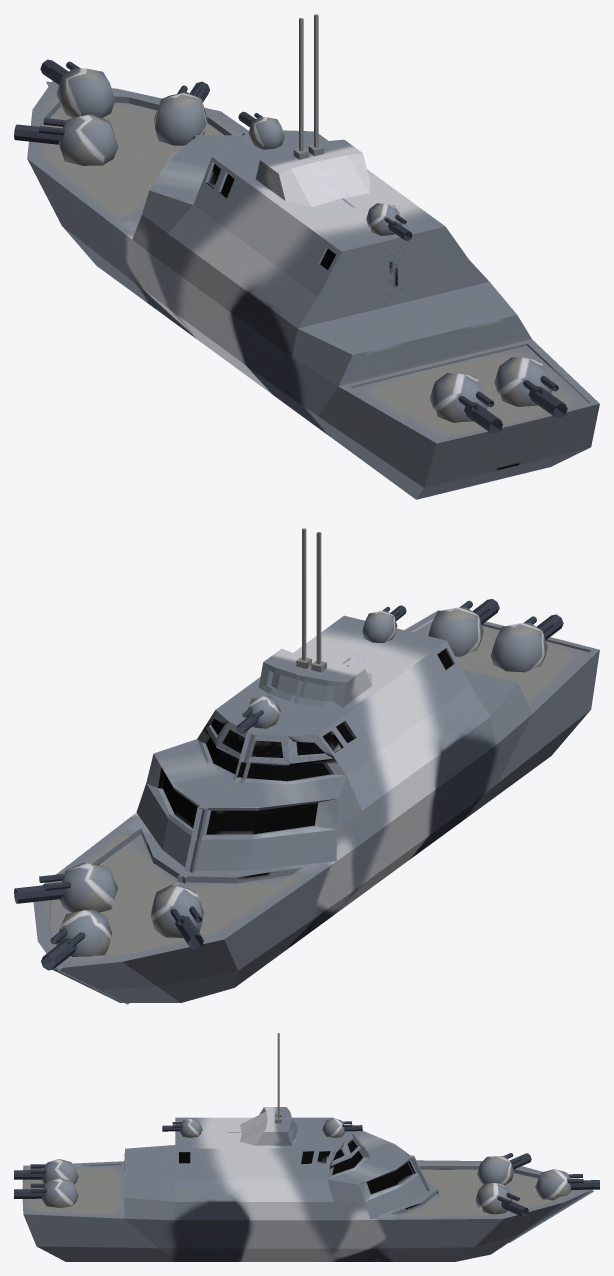
File: Barco_1.fbx
3 views of the same model, one above another, from view 1: azimuth 30°, elevation 25°; view 2: azimuth 150°, elevation 25°; view 3: azimuth 270°, elevation 25° (orthographic). The views are drawn at different scales.
Parts seen in each view (by area): view 1: barco_1, Cube.002, Cube.001, Cube.004, Cube.005, Cube.003, Cube.007, Cube.008; view 2: barco_1, Cube.003, Cube.005, Cube.001, Cube.002, Cube.004, Cube.008, Cube.007; view 3: barco_1, Cube.001, Cube.004, Cube.003, Cube.002, Cube.005, Cube.007, Cube.008.
Boxes of the visible parts, x1=… form: barco_1: x1=27, y1=14, x2=599, y2=499; Cube.002: x1=14, y1=114, x2=118, y2=165; Cube.001: x1=40, y1=59, x2=114, y2=117; Cube.004: x1=494, y1=357, x2=567, y2=418; Cube.005: x1=429, y1=373, x2=502, y2=433; Cube.003: x1=154, y1=81, x2=209, y2=145; Cube.007: x1=238, y1=111, x2=284, y2=149; Cube.008: x1=366, y1=203, x2=412, y2=240; barco_1: x1=33, y1=528, x2=599, y2=1004; Cube.003: x1=14, y1=863, x2=118, y2=912; Cube.005: x1=491, y1=614, x2=563, y2=672; Cube.001: x1=41, y1=909, x2=112, y2=970; Cube.002: x1=150, y1=885, x2=203, y2=949; Cube.004: x1=428, y1=599, x2=499, y2=656; Cube.008: x1=362, y1=605, x2=406, y2=643; Cube.007: x1=236, y1=696, x2=280, y2=733; barco_1: x1=22, y1=1033, x2=593, y2=1261; Cube.001: x1=535, y1=1169, x2=599, y2=1200; Cube.004: x1=14, y1=1178, x2=78, y2=1207; Cube.003: x1=475, y1=1183, x2=528, y2=1216; Cube.002: x1=477, y1=1153, x2=531, y2=1185; Cube.005: x1=14, y1=1159, x2=78, y2=1184; Cube.007: x1=322, y1=1118, x2=362, y2=1137; Cube.008: x1=162, y1=1118, x2=202, y2=1137.
Size of the model in its own units: 209 by 333 by 857.
